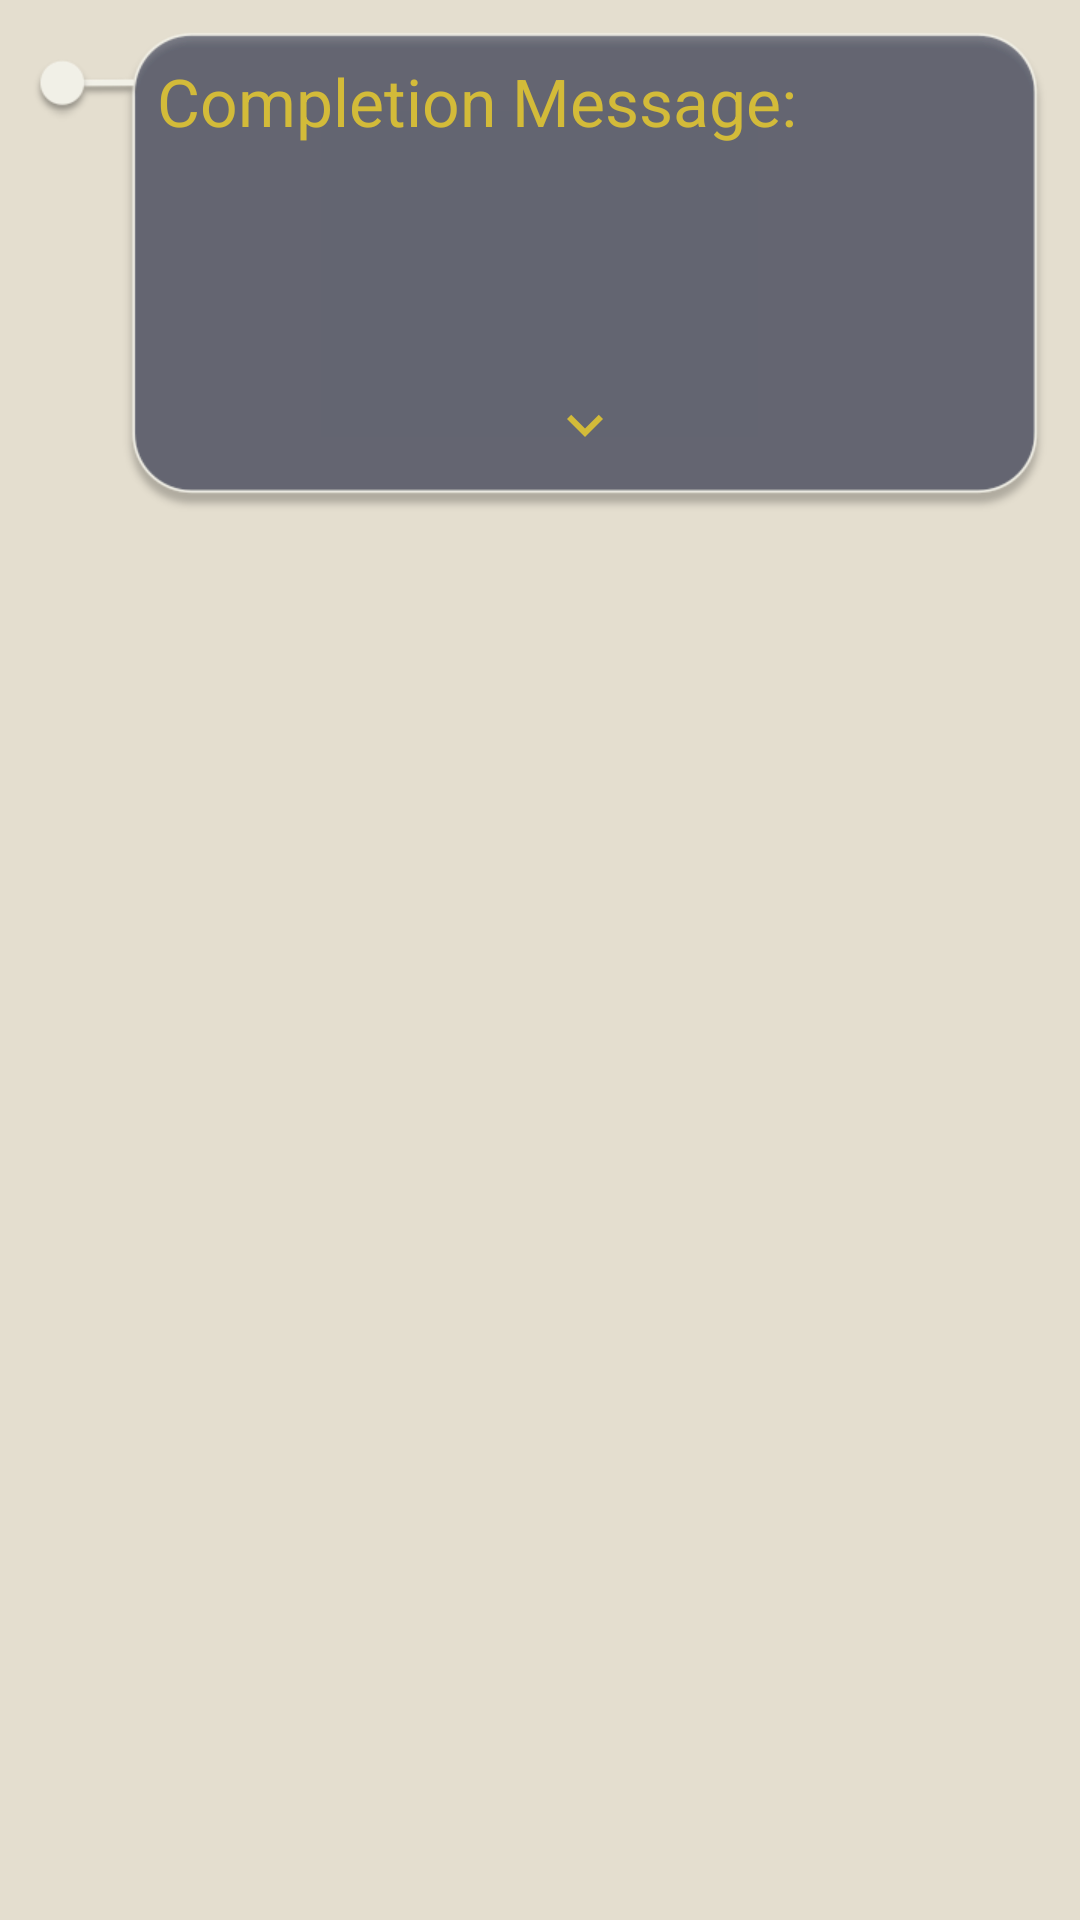

Point at icon controls on the screen. Image size 1080×1920, points as point (x, y).
navigation expand more: point (585, 426)
